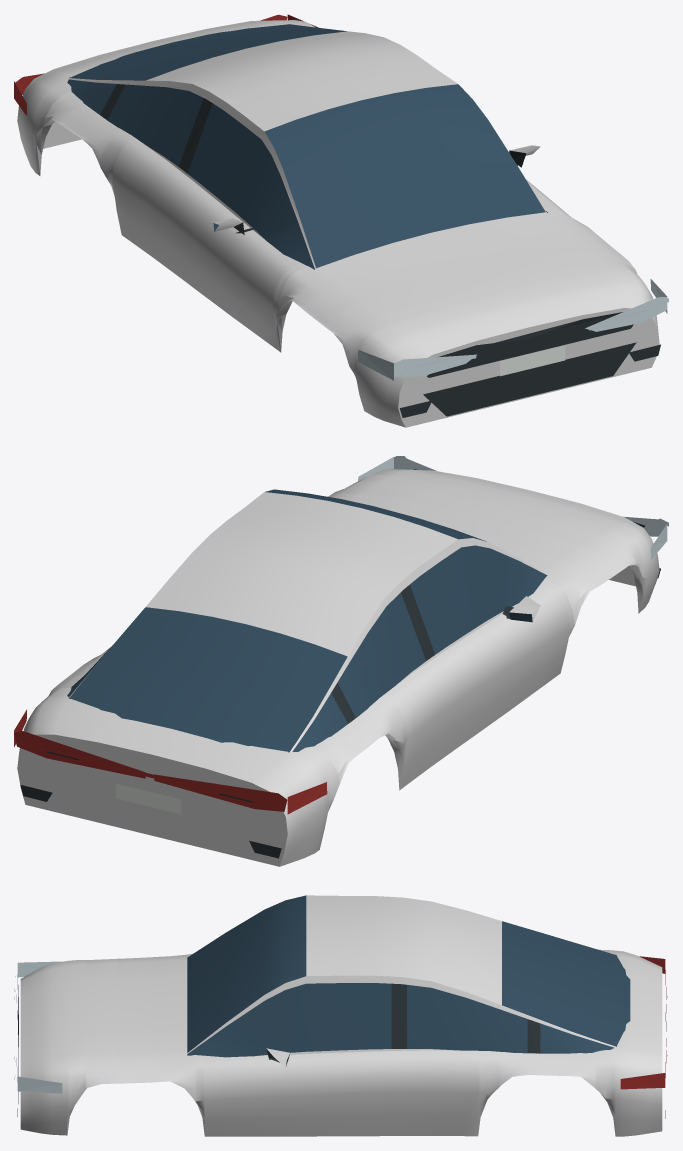
Rendered from veh_k5-lod1.glb.
The picture shows the model from 3 angles, top to bottom: view 1: azimuth 30°, elevation 25°; view 2: azimuth 150°, elevation 25°; view 3: azimuth 270°, elevation 25°; orthographic projection. The views are drawn at different scales.
Parts seen in each view (by area): view 1: paint, glass, trim, head, plate, tail; view 2: paint, glass, tail, trim, head, plate; view 3: paint, glass, trim, head, tail.
Part boxes in pixels (x1=…): paint: x1=17, y1=20, x2=659, y2=427; glass: x1=67, y1=24, x2=547, y2=269; trim: x1=100, y1=84, x2=660, y2=417; head: x1=357, y1=279, x2=668, y2=380; plate: x1=500, y1=345, x2=565, y2=376; tail: x1=14, y1=14, x2=318, y2=115; paint: x1=17, y1=469, x2=659, y2=866; glass: x1=67, y1=489, x2=547, y2=752; tail: x1=14, y1=709, x2=327, y2=814; trim: x1=20, y1=469, x2=660, y2=858; head: x1=358, y1=456, x2=668, y2=559; plate: x1=116, y1=783, x2=181, y2=814; paint: x1=20, y1=895, x2=662, y2=1136; glass: x1=187, y1=895, x2=630, y2=1065; trim: x1=17, y1=983, x2=667, y2=1118; head: x1=14, y1=961, x2=62, y2=1093; tail: x1=620, y1=956, x2=666, y2=1089.
Size of the model in its own units: 1.57 by 0.815 by 3.24.
